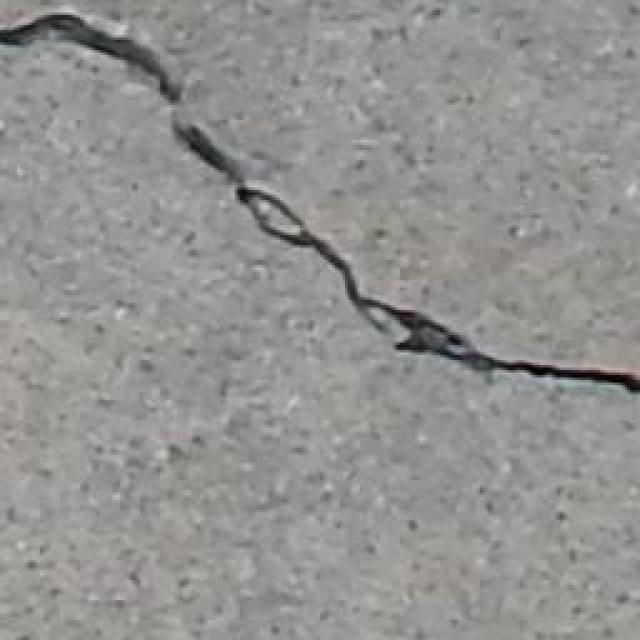concrete-crack: (0, 10, 640, 395)
